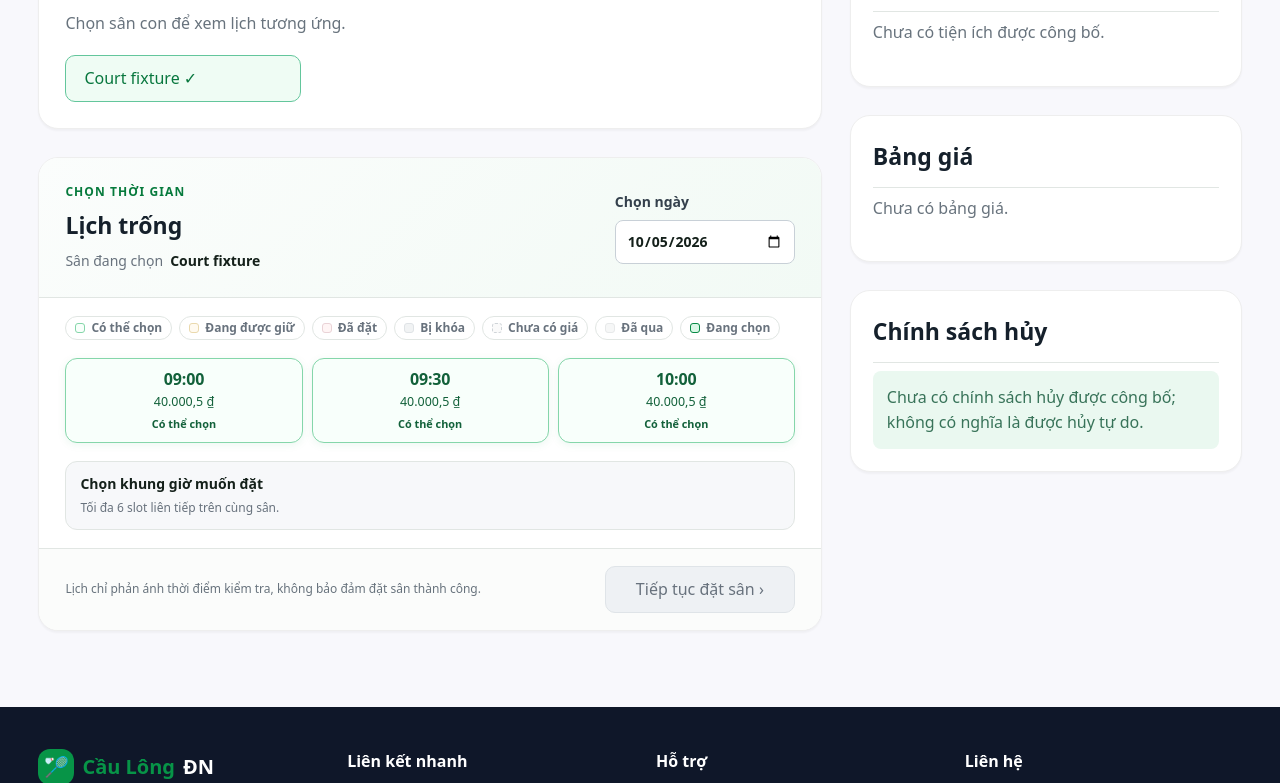
Scenario: selection → confirmation shows exact estimates; POST is explicit, whitelist + CSRF, then real snapshot detail
This screenshot has width=1280, height=783.
(page scrolled)
Click the button with aria-label "09:00–09:30".
click(184, 400)  # box [65,358,303,443]
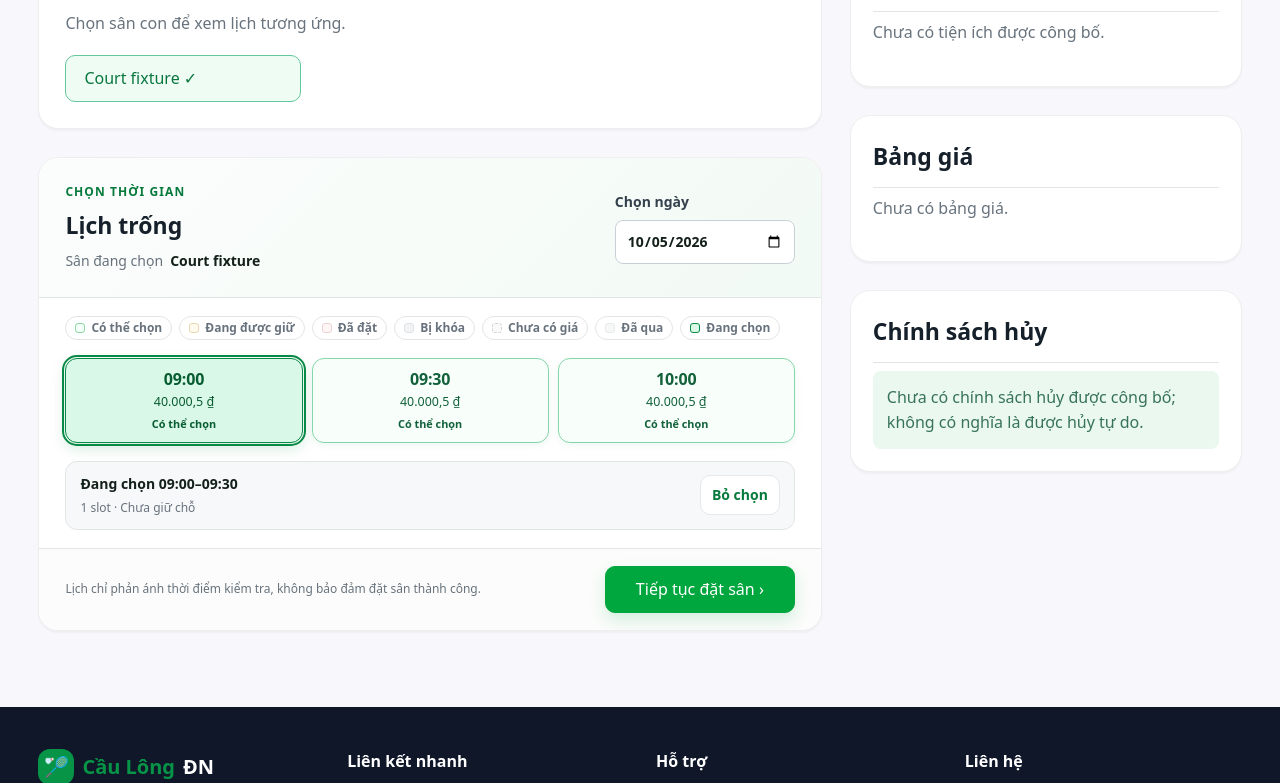
Click the button with aria-label "09:30–10:00".
click(430, 400)  # box [312,358,549,443]
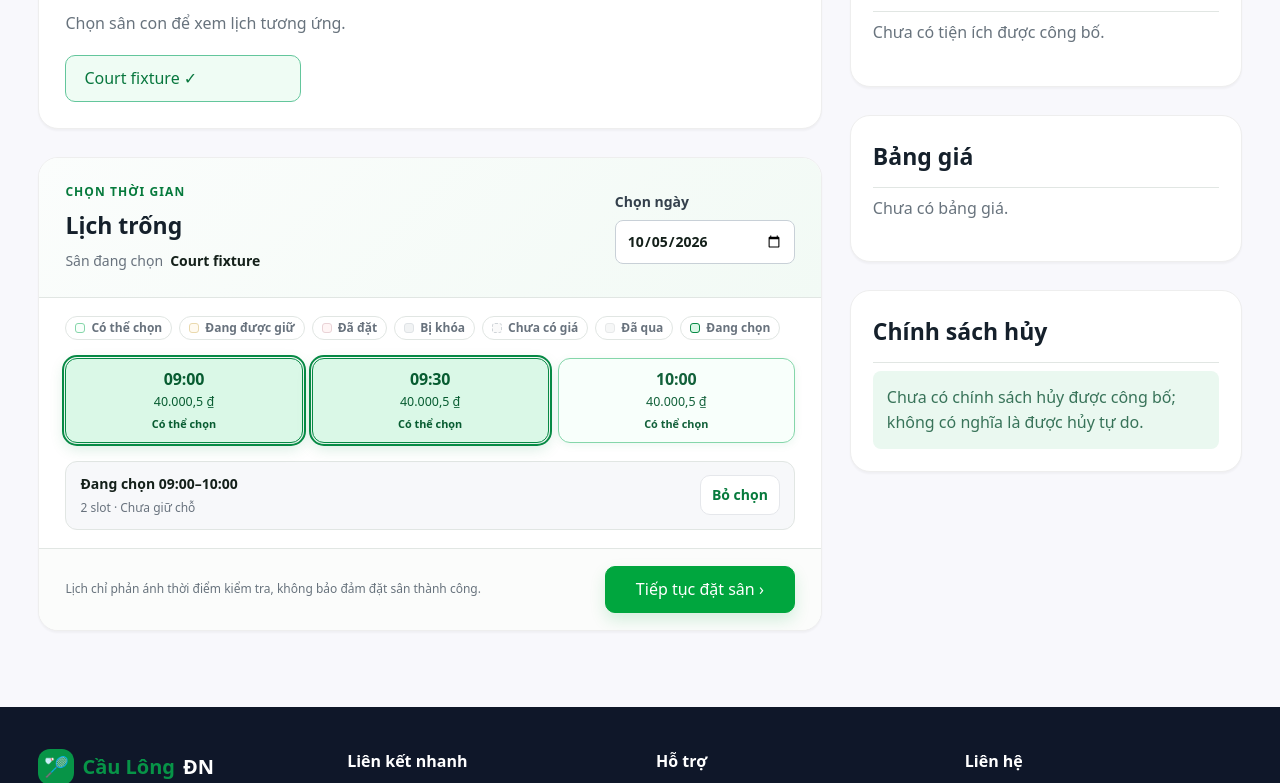
Click the button "Tiếp tục đặt sân ›".
click(700, 590)  # box [605,566,795,613]
(page scrolled)
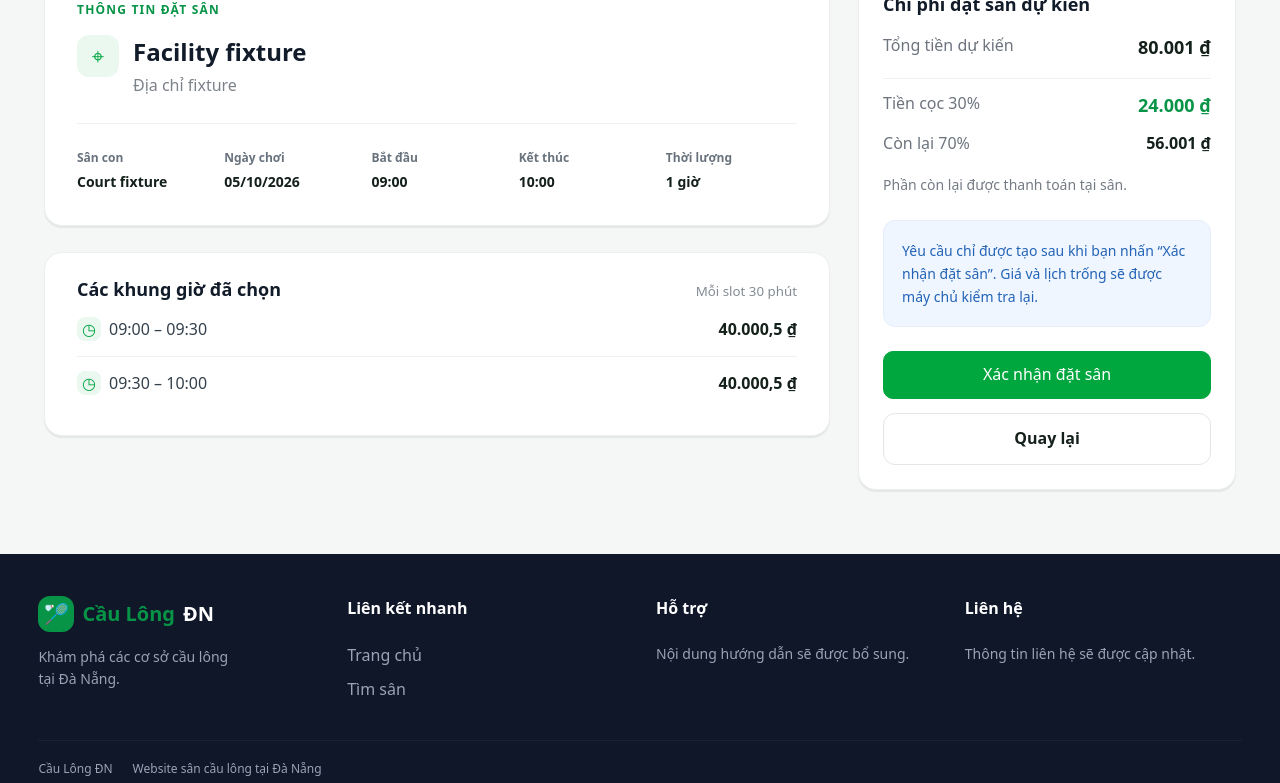
Expected: the text "Tổng tiền dự kiến" is shown, [883,33,1014,62]
Expected: the text "80.001 ₫" is shown, [1138,33,1211,62]
Click the button "Xác nhận đặt sân".
click(1047, 375)  # box [883,351,1211,399]
(page scrolled)
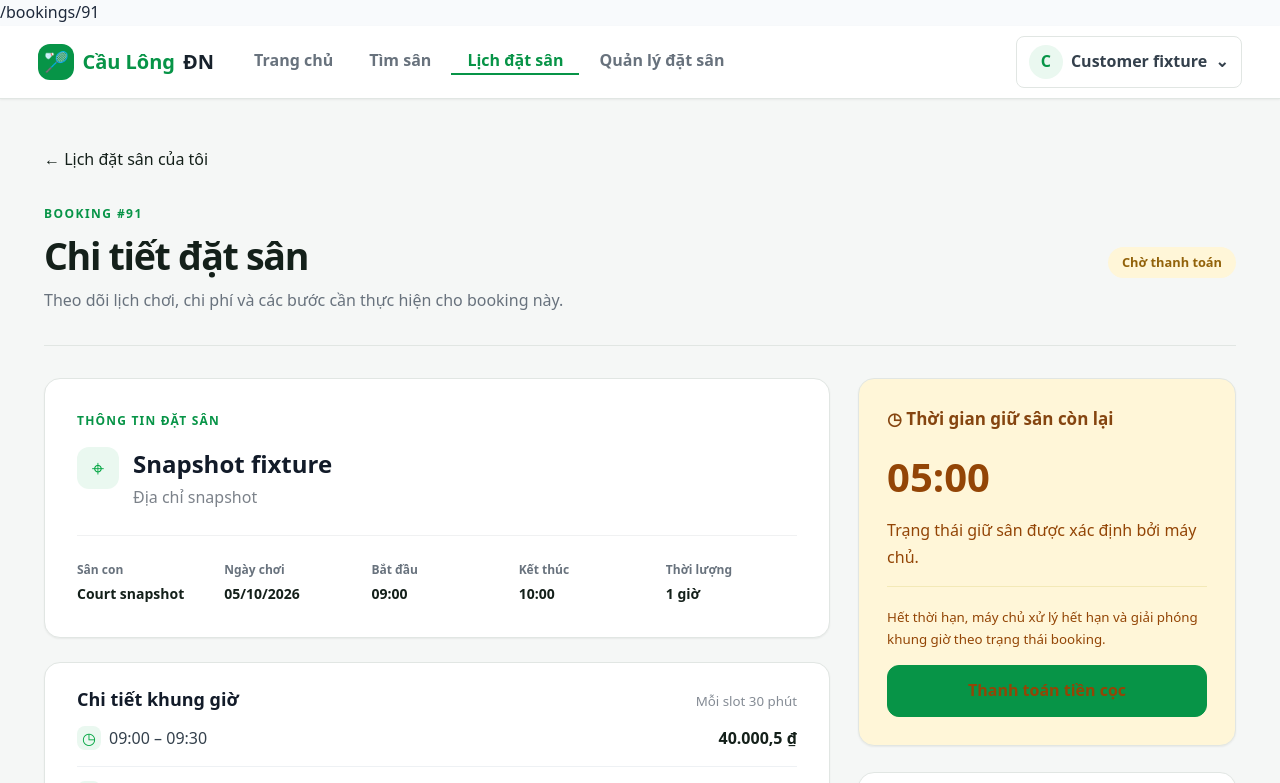
Expected: the heading "Chi tiết đặt sân" is shown, [44,230,308,281]
Expected: the heading "Snapshot fixture" is shown, [133,446,332,480]
Expected: the text "Chờ thanh toán" is shown, [1108,247,1236,278]
